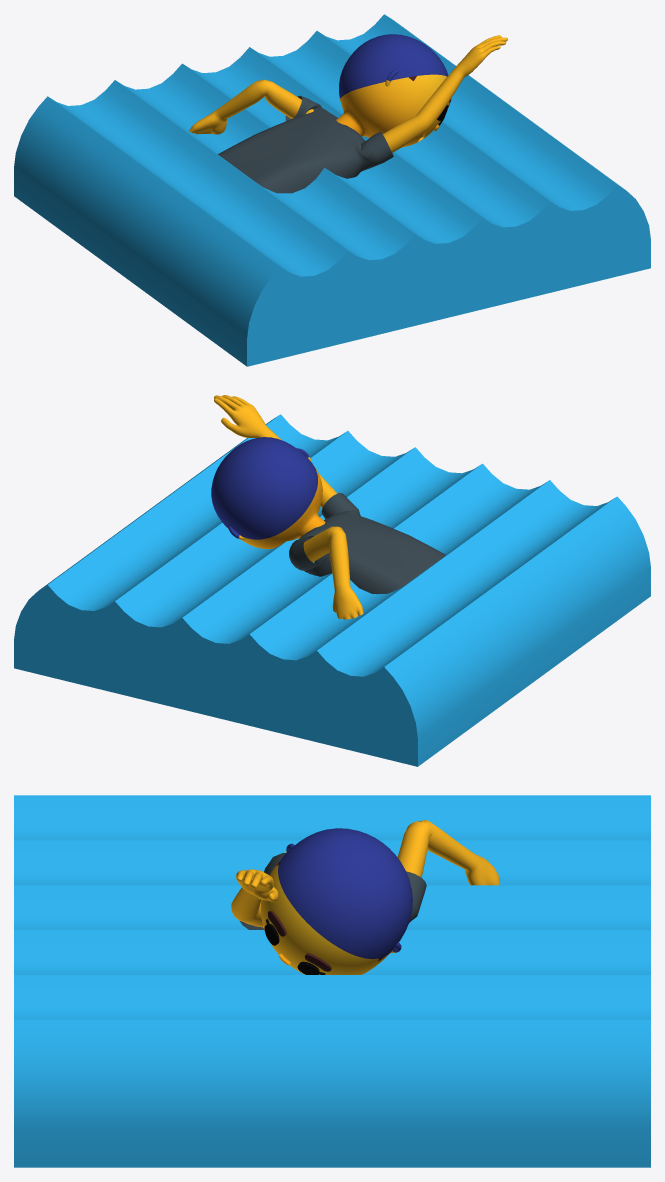
The model's file is woman_swimming.fbx.
3 views of the same model, one above another, from view 1: azimuth 30°, elevation 25°; view 2: azimuth 150°, elevation 25°; view 3: azimuth 270°, elevation 25° (orthographic). The views are drawn at different scales.
Parts seen in each view (by area): view 1: Cube.290, Circle.141, Roundcube.465; view 2: Cube.290, Circle.141, Roundcube.465; view 3: Cube.290, Roundcube.465, Circle.141.
Part boxes in pixels (bbox=[...]): Cube.290: bbox=[14, 14, 650, 366]; Circle.141: bbox=[189, 35, 507, 193]; Roundcube.465: bbox=[336, 34, 448, 147]; Cube.290: bbox=[14, 414, 650, 766]; Circle.141: bbox=[214, 395, 445, 619]; Roundcube.465: bbox=[211, 437, 325, 548]; Cube.290: bbox=[14, 795, 650, 1167]; Roundcube.465: bbox=[260, 828, 412, 974]; Circle.141: bbox=[231, 820, 499, 929].
Bounding box in the file's own units: 200 × 85.88 × 200.
Materials: 2 (2 with a texture image).
